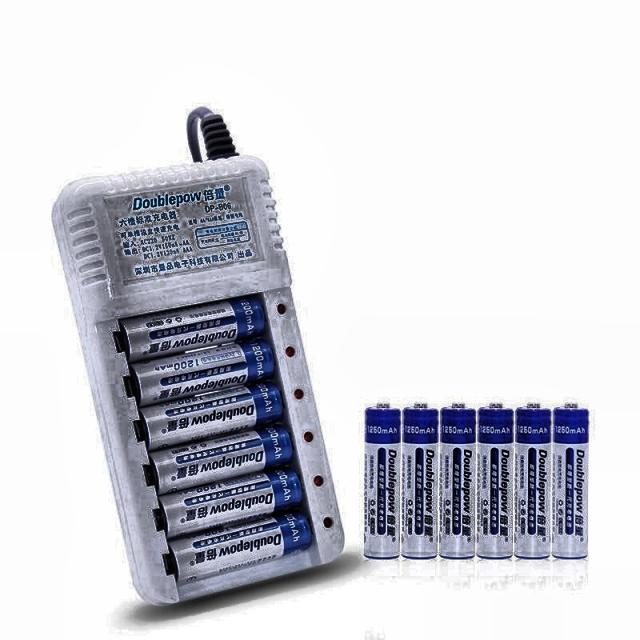Non-Valuable Waste - Batteries: (154, 468, 302, 538), (145, 425, 292, 495), (135, 381, 284, 450), (169, 511, 311, 583), (130, 339, 275, 407), (116, 296, 265, 362), (401, 404, 439, 558), (364, 405, 401, 559), (514, 404, 551, 558), (552, 405, 589, 558), (439, 404, 475, 558), (478, 404, 514, 558)
